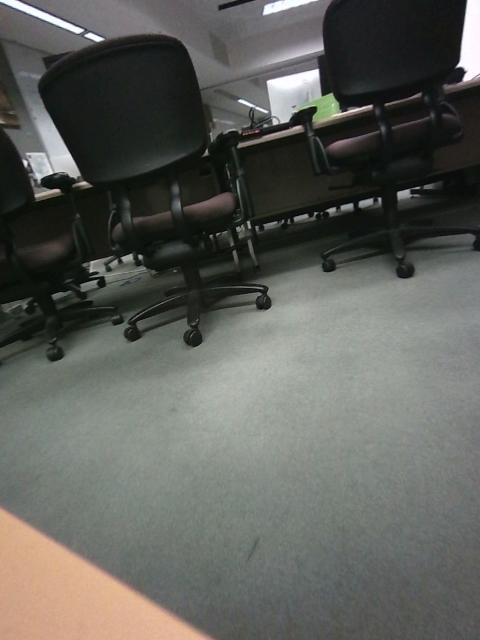block: (109, 346, 160, 383)
